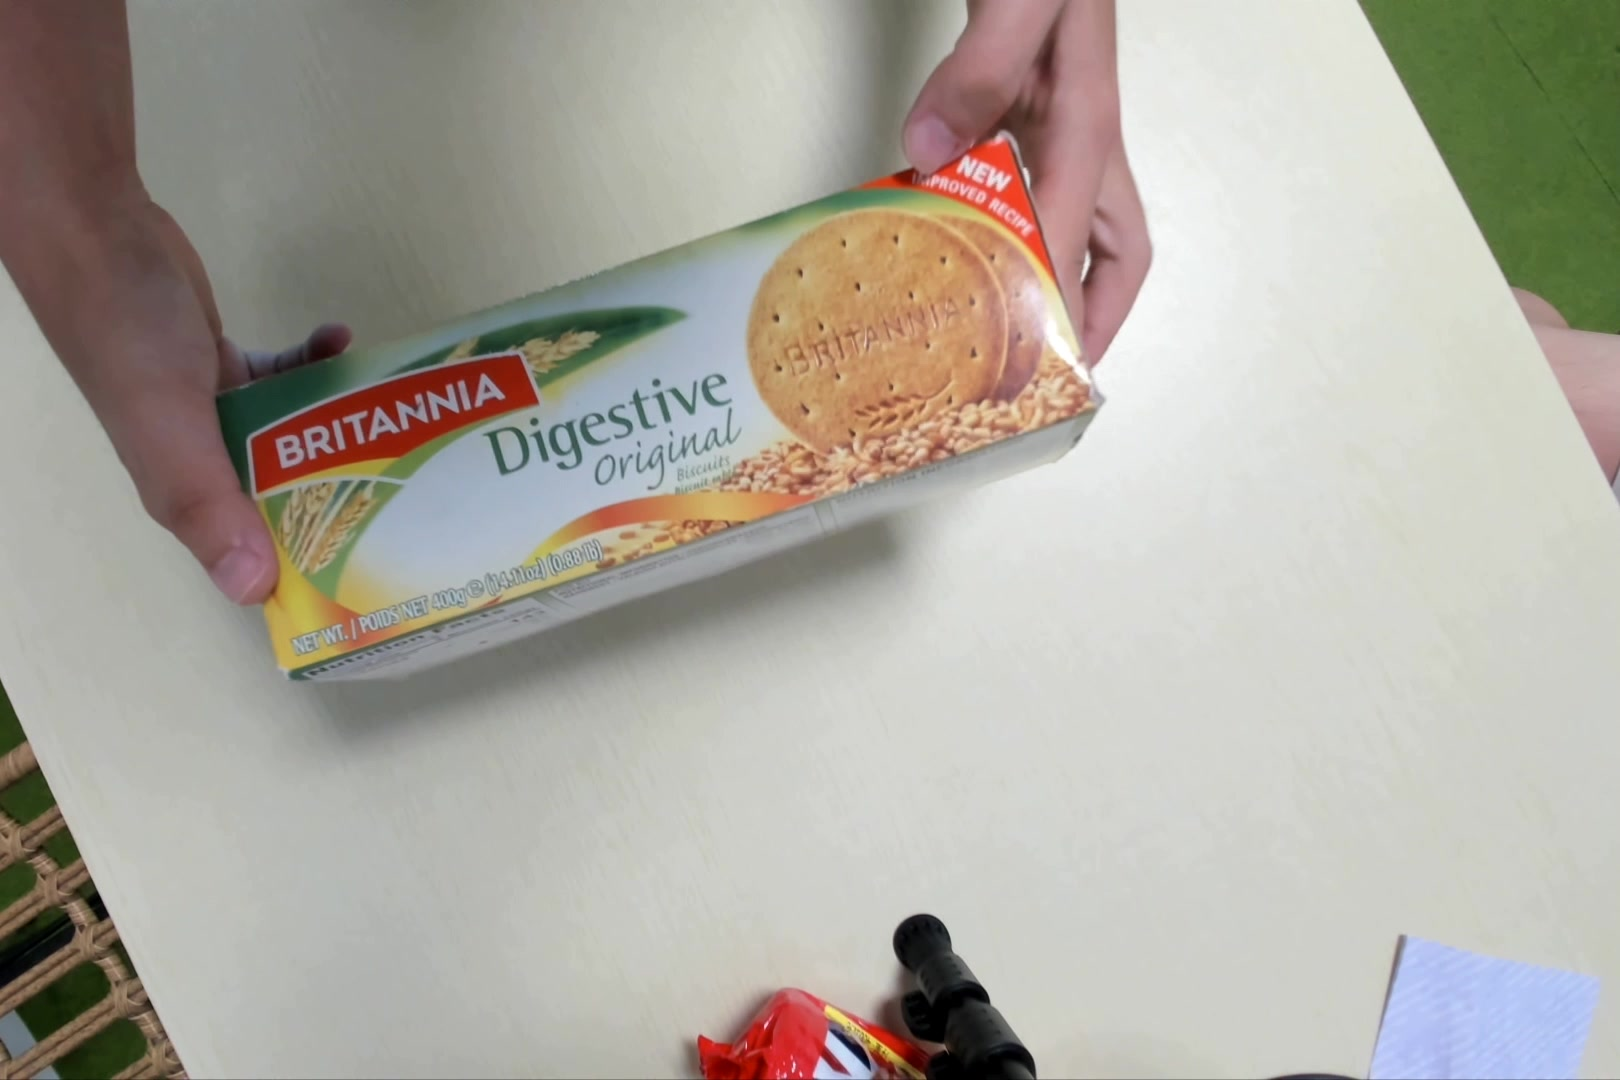BiscuitsCrackersCookies_400-499g_NonHalal_NonHealthy: (205, 133, 1096, 700)
